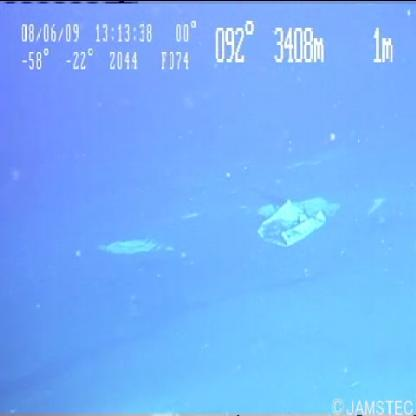Bio: (86, 215, 206, 268)
Rác: (246, 186, 369, 265)
